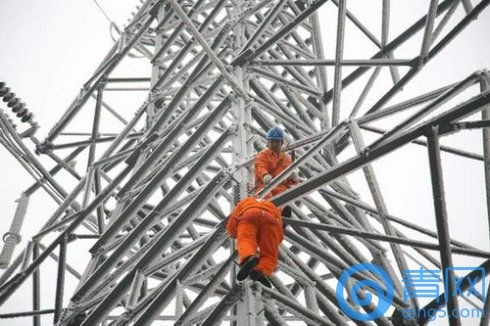blue: (264, 125, 286, 151)
